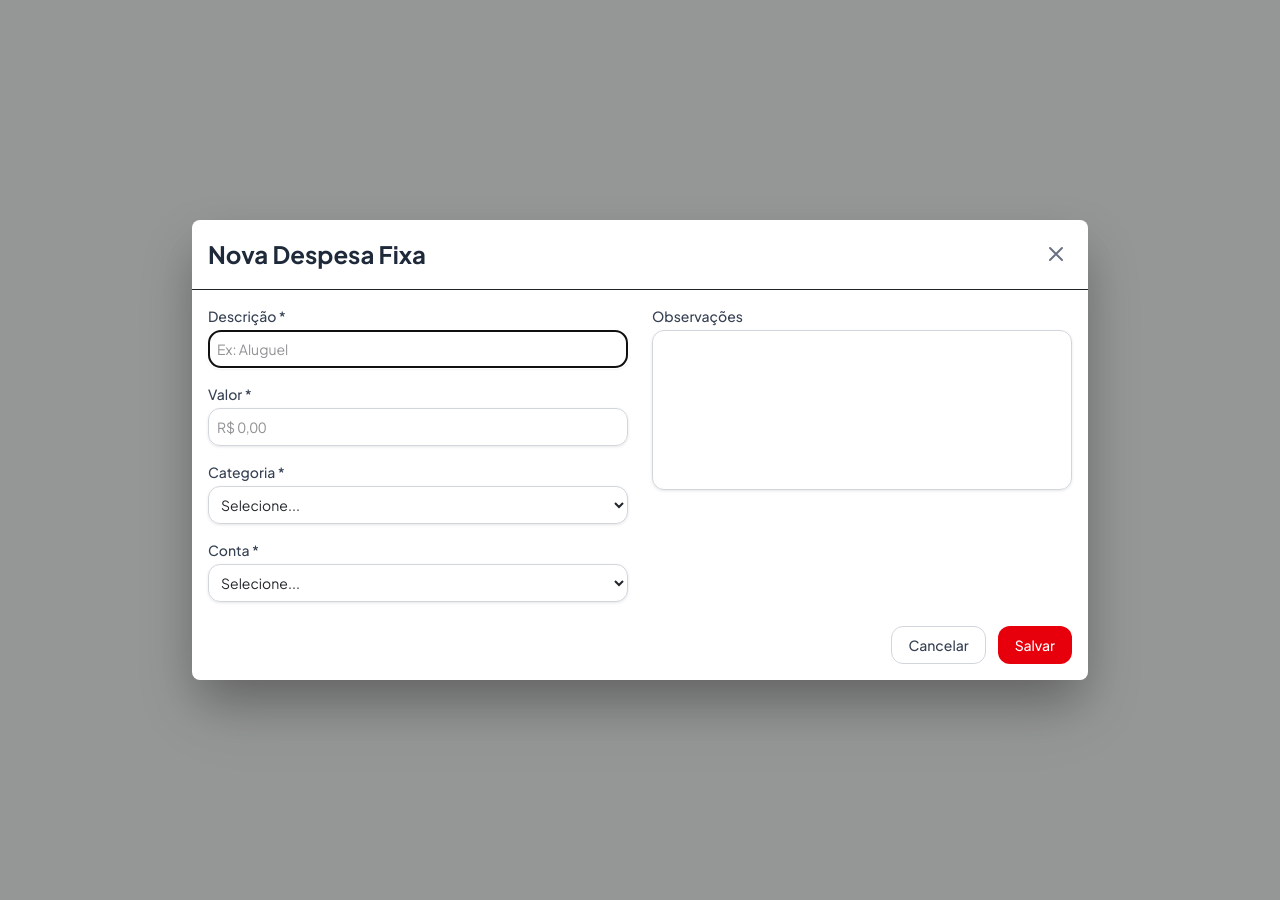
it: MovimentacaoForm - Componentes Compartilhados › MovimentacaoFixaFormModal › valida campos obrigatórios vazios ou zero ao submeter
This screenshot has width=1280, height=900.
Submete formulário vazio
Step 1. Click the button "Salvar" → (1035, 645), box [998,626,1072,664]
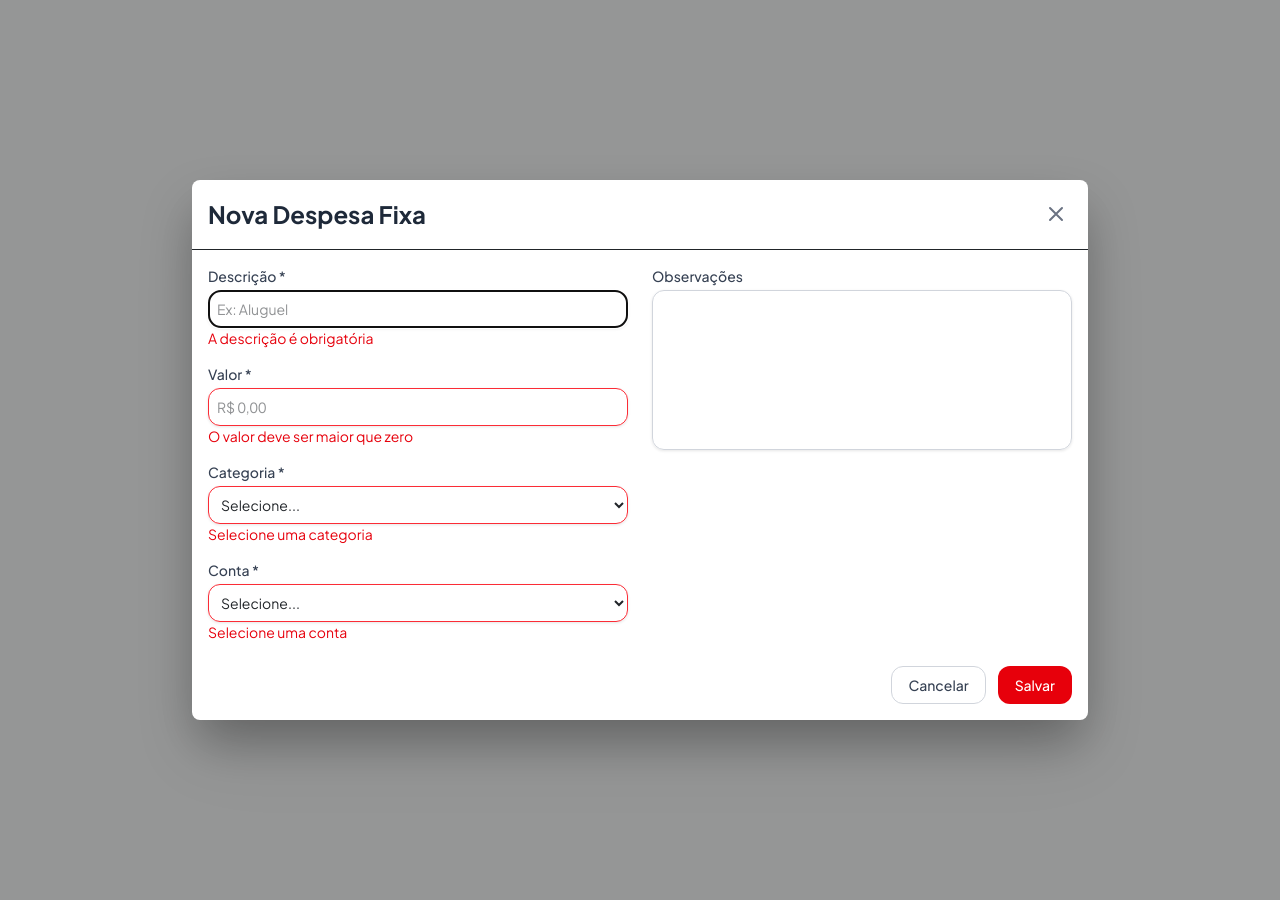
Check: the text "A descrição é obrigatória" is shown, box [208,329,374,347]
Check: the text "O valor deve ser maior que zero" is shown, box [208,427,413,445]
Check: the text "Selecione uma conta" is shown, box [208,623,347,641]
